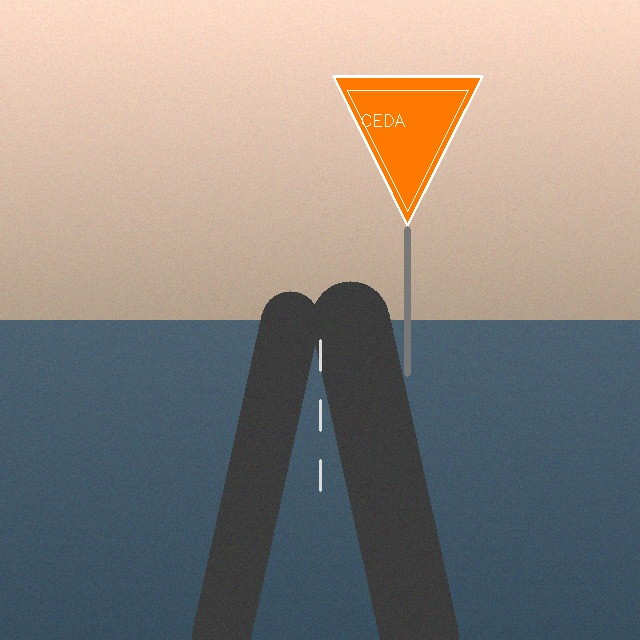ceda_el_paso: (329, 72, 486, 229)
